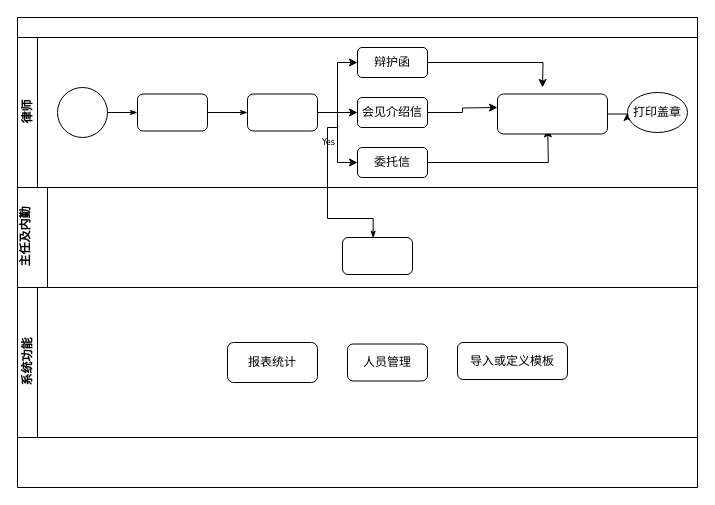
Some shapes in this 715 by 505 pixel diagram are drawn without their labels. Each missing label, with the box of its shape:
录入基础信息: (136, 93, 208, 131)
收到通知: (342, 236, 412, 274)
生成PDF下载: (496, 93, 608, 134)
生成辩护合同: (246, 93, 318, 131)
登录系统: (56, 86, 108, 138)
